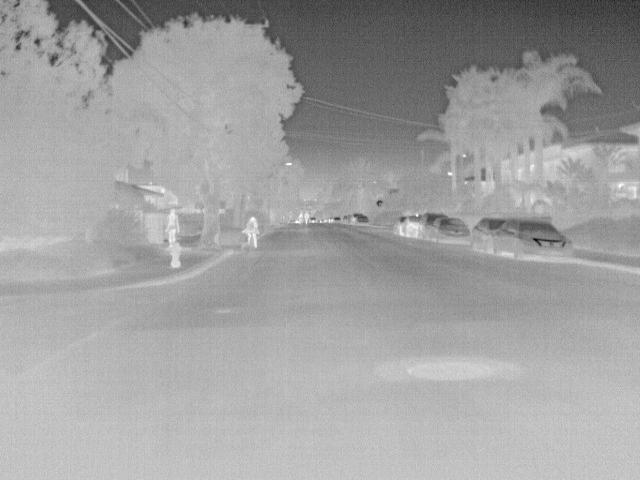car: (490, 220, 576, 260), (429, 219, 472, 242), (473, 220, 508, 248), (416, 213, 445, 239), (400, 218, 424, 238), (390, 218, 408, 234), (353, 213, 368, 226), (331, 216, 344, 224), (309, 216, 317, 223)
person: (244, 214, 260, 248), (165, 208, 179, 245), (303, 210, 311, 225)
